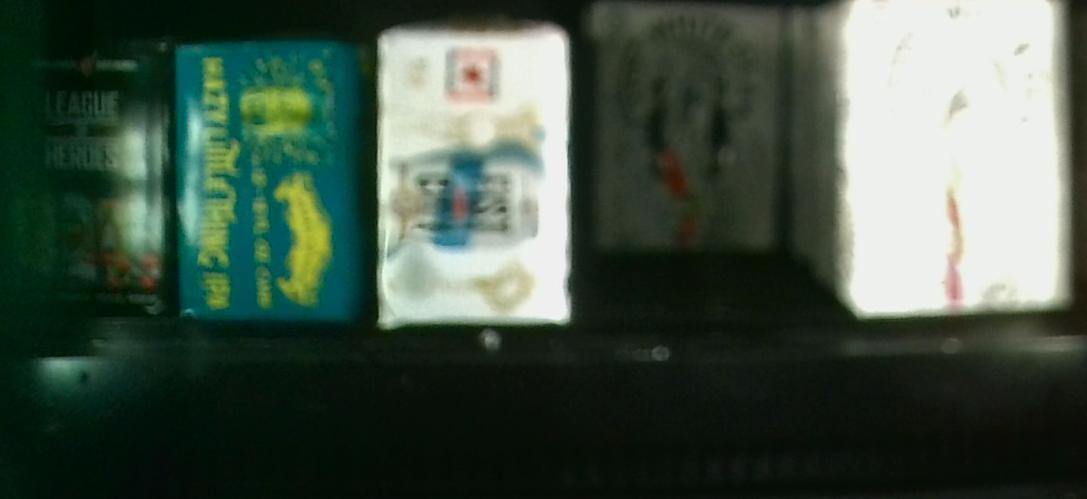bottle: (790, 1, 1076, 315), (378, 21, 569, 326), (176, 38, 364, 320), (588, 1, 788, 257), (1, 39, 172, 315)
